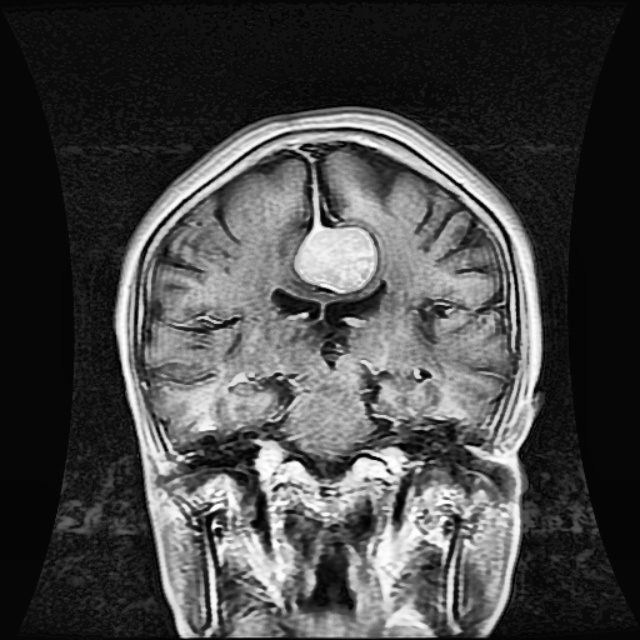Glioma: (295, 225, 375, 292)
